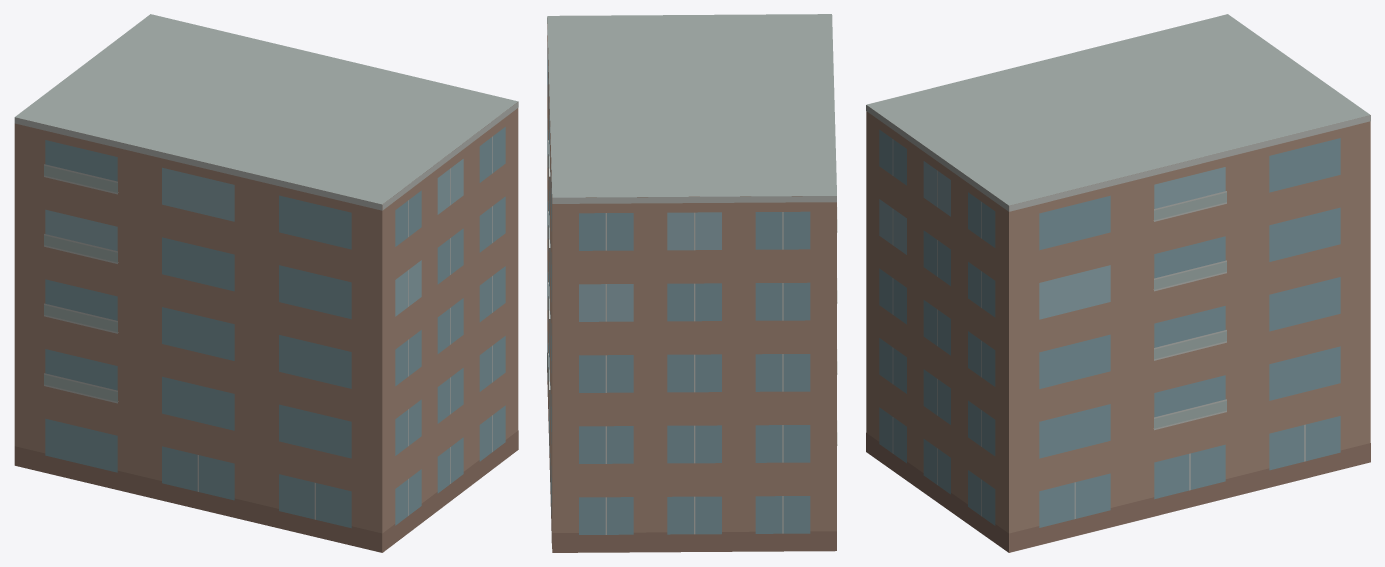
Rendered from survey-upis-32619771.glb.
3 renders of one model, left to right at view 1: azimuth 30°, elevation 25°; view 2: azimuth 150°, elevation 25°; view 3: azimuth 270°, elevation 25°, orthographic. The views are drawn at different scales.
Parts seen in each view (by area): view 1: survey-upis-32619771.tmp; view 2: survey-upis-32619771.tmp; view 3: survey-upis-32619771.tmp.
Part boxes in pixels (left/top/right/bottom): survey-upis-32619771.tmp: left=14, top=14, right=518, bottom=552; survey-upis-32619771.tmp: left=547, top=14, right=837, bottom=552; survey-upis-32619771.tmp: left=866, top=14, right=1370, bottom=552.
Size of the model in its own units: 16.23 by 13.7 by 18.06.
